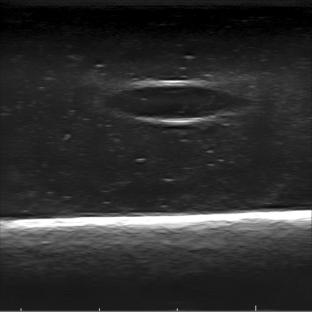vessel: (106, 79, 237, 125)
